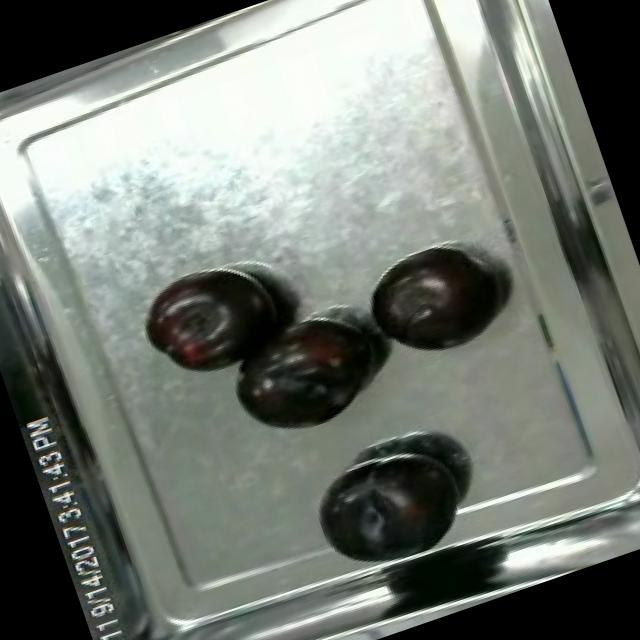Fruit: (293, 426, 481, 587), (213, 294, 396, 454), (124, 245, 297, 398), (356, 240, 511, 375)
